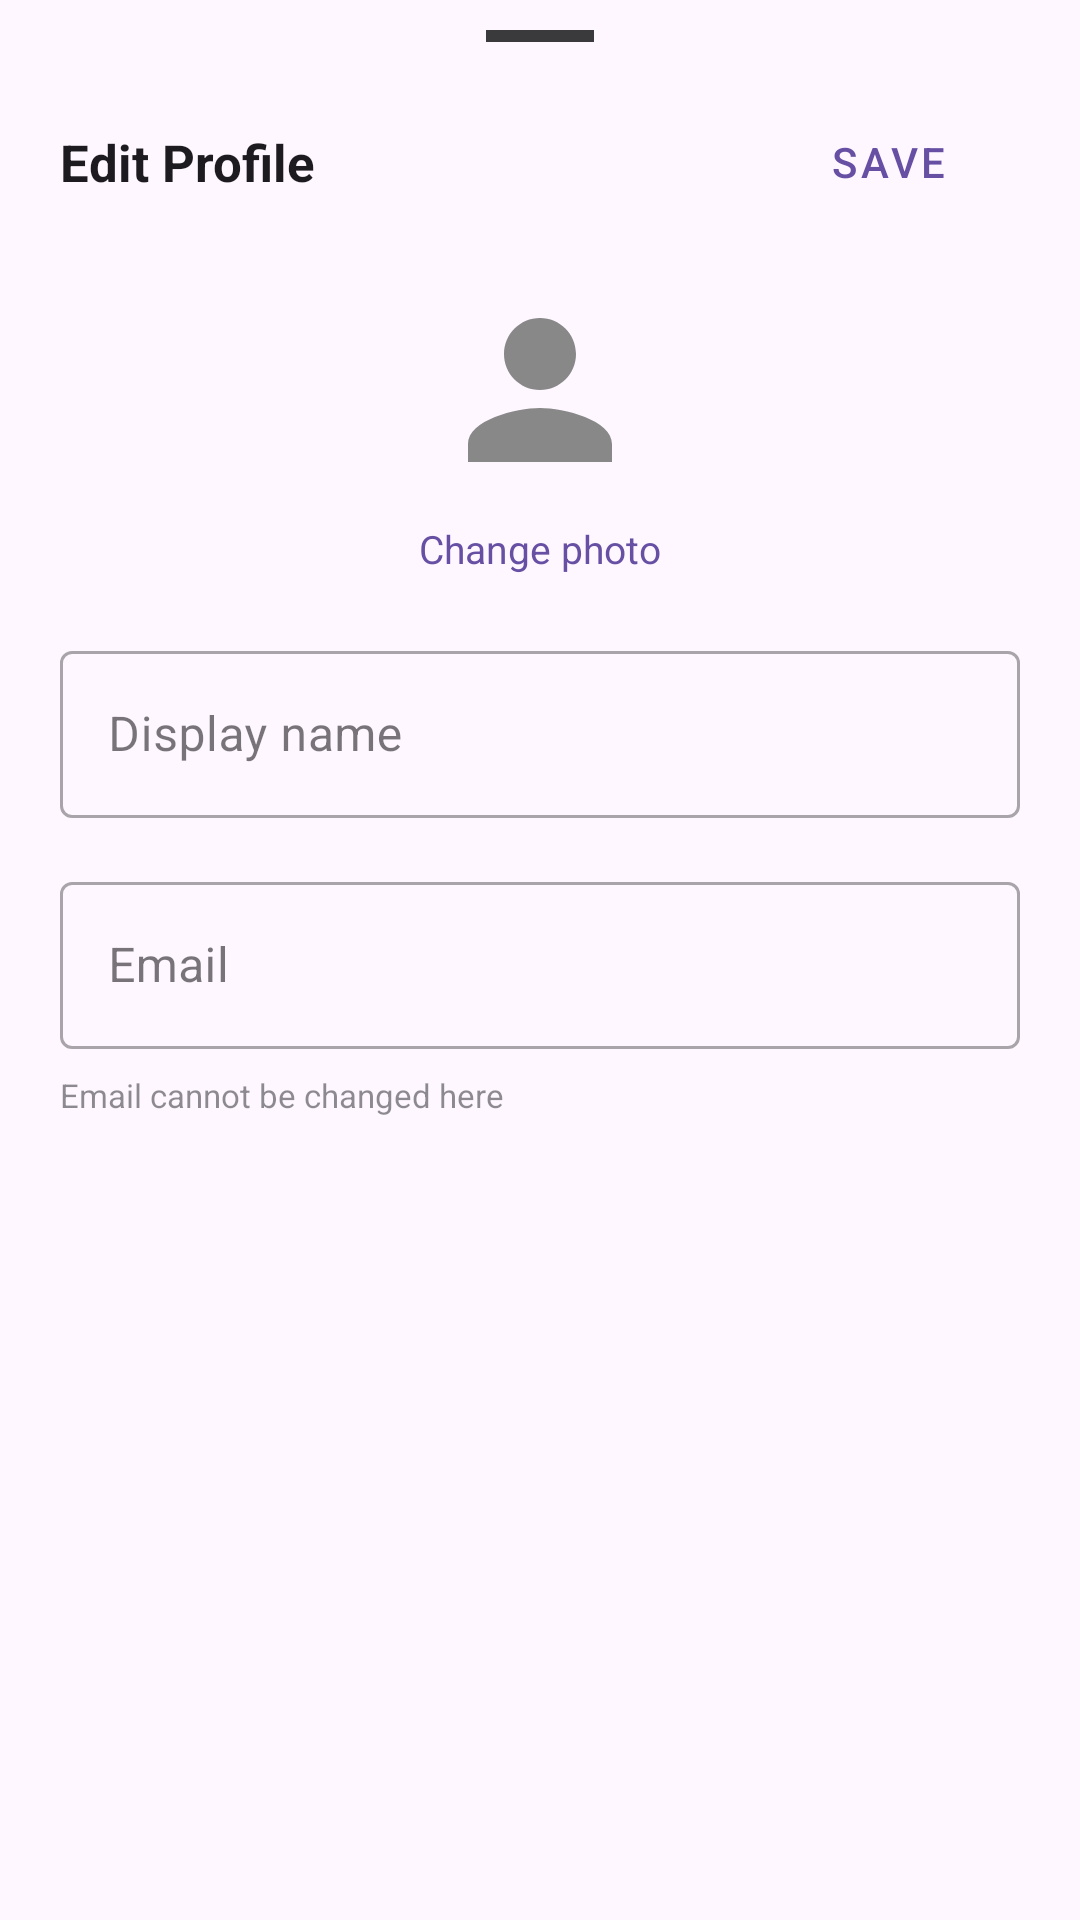

Icon bounding boxes for this 1080 x 1920 phone screenshot, format bbox=(x1, y1, x2, y2):
person: bbox=(468, 318, 612, 462)
